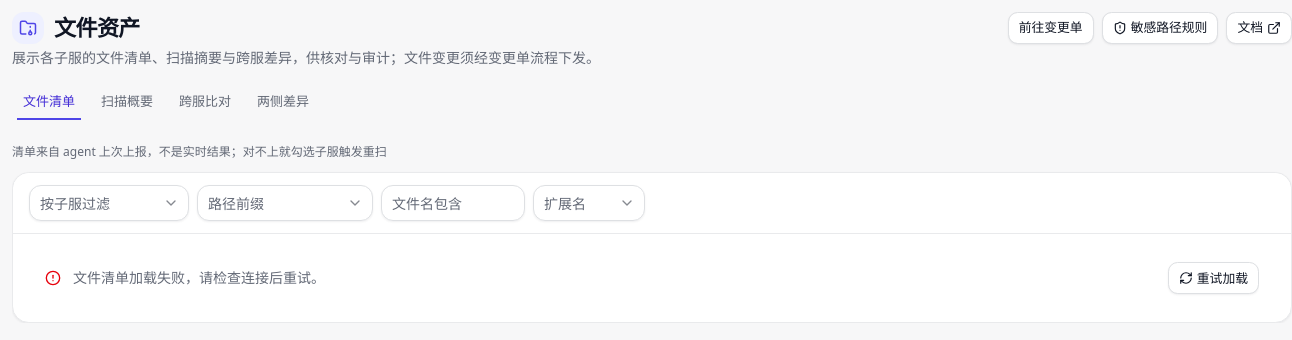
Test: /assets 文件资产页 › 清单加载失败时显示可重试操作
Expected: the text "文件清单加载失败，请检查连接后重试。" is shown, [73,268,325,287]
Click the button "重试加载".
click(1213, 278)  # box [1168,262,1259,294]
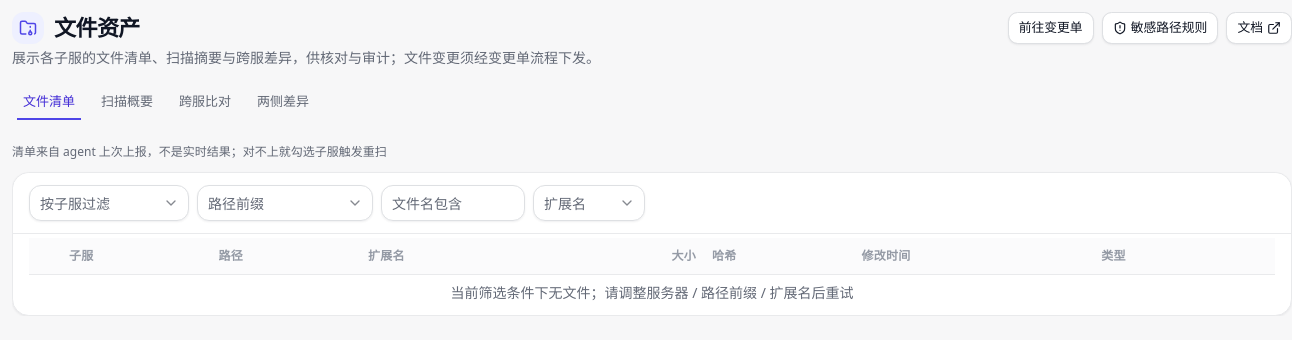
Now the text "当前筛选条件下无文件；请调整服务器 / 路径前缀 / 扩展名后重试" is shown, box [29,274,1275,310]
